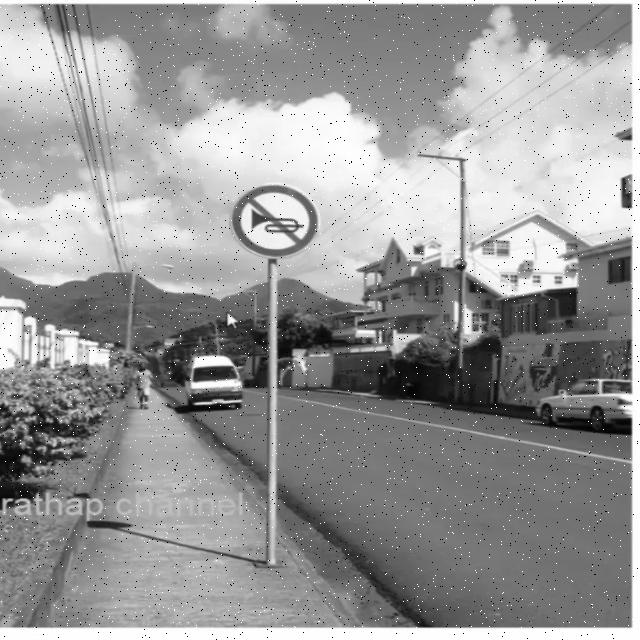No_Horn: (230, 188, 322, 255)
